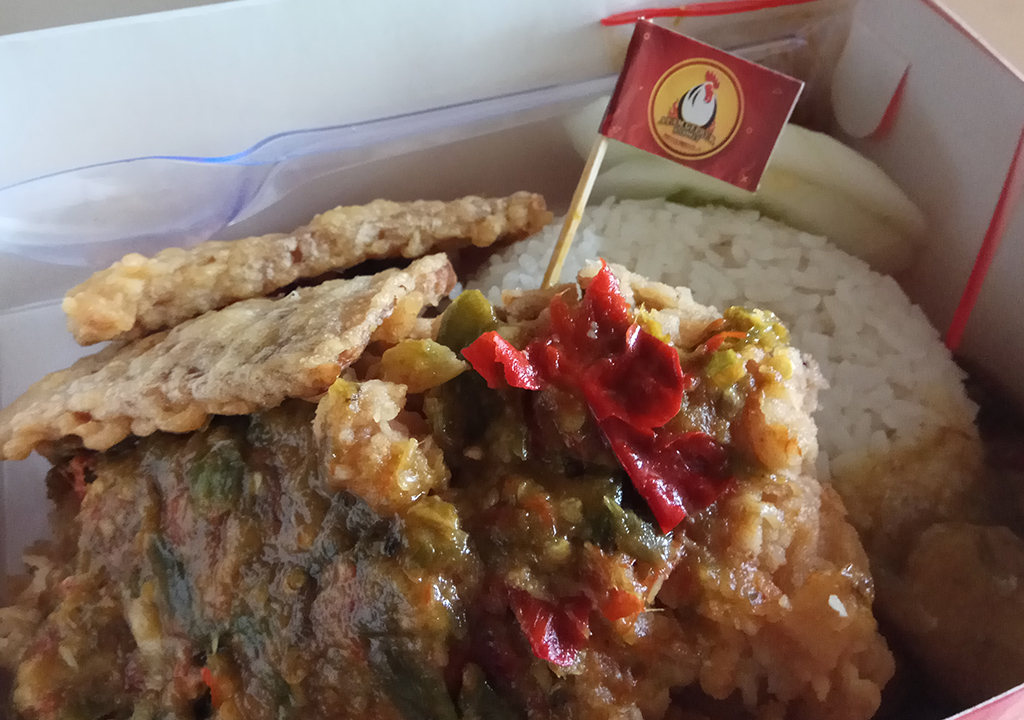ayam_geprek: (57, 234, 885, 720)
